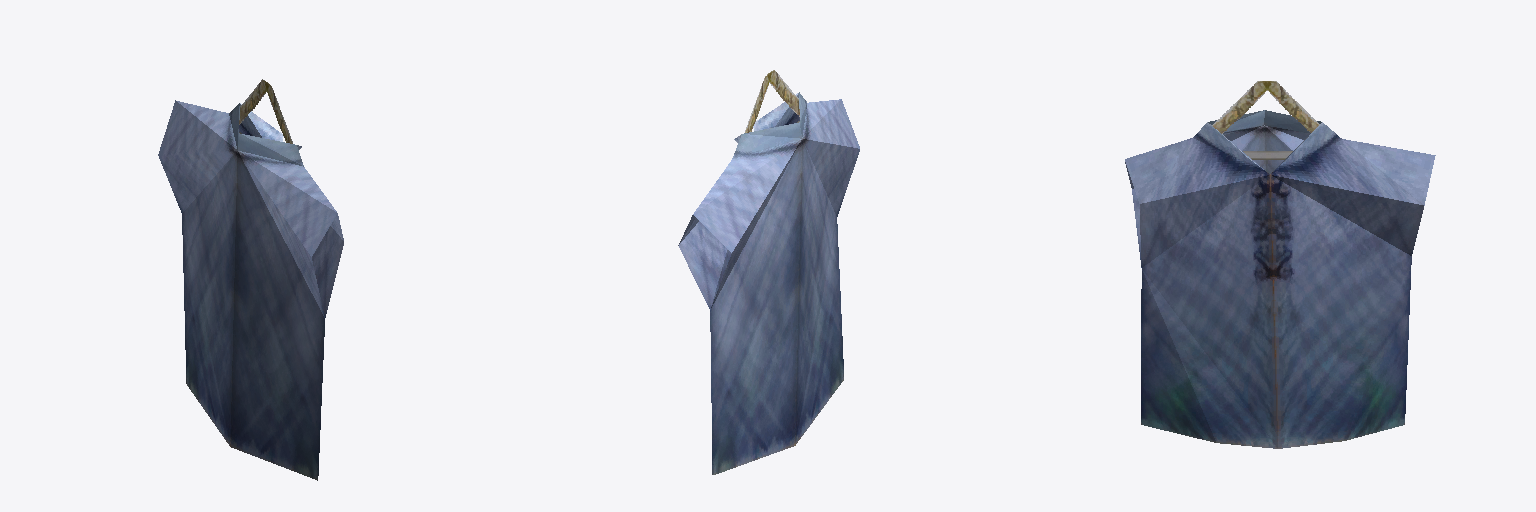
The picture shows the model from 3 angles: view 1: azimuth 30°, elevation 25°; view 2: azimuth 150°, elevation 25°; view 3: azimuth 270°, elevation 25°; orthographic projection.
Parts seen in each view (by area): view 1: taurenshirthangingblue; view 2: taurenshirthangingblue; view 3: taurenshirthangingblue.
Boxes of the visible parts, x1,y1,x2,y2 form: taurenshirthangingblue: [158, 79, 343, 480]; taurenshirthangingblue: [678, 70, 859, 474]; taurenshirthangingblue: [1125, 81, 1435, 448].
Size of the model in its own units: 0.1567 by 0.899 by 0.6828.
Materials: 1 (1 with a texture image).